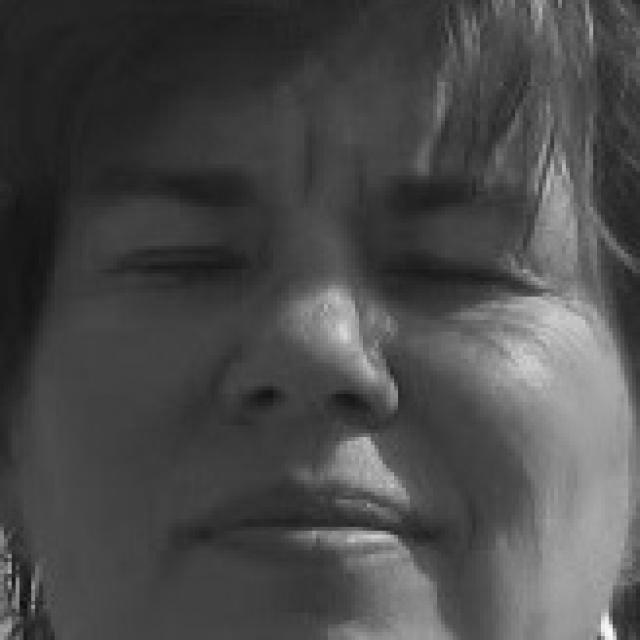real: (6, 7, 638, 636), (100, 169, 568, 345)
